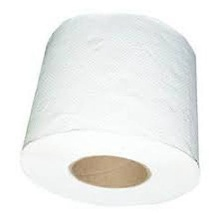tissue: (12, 7, 206, 214)
